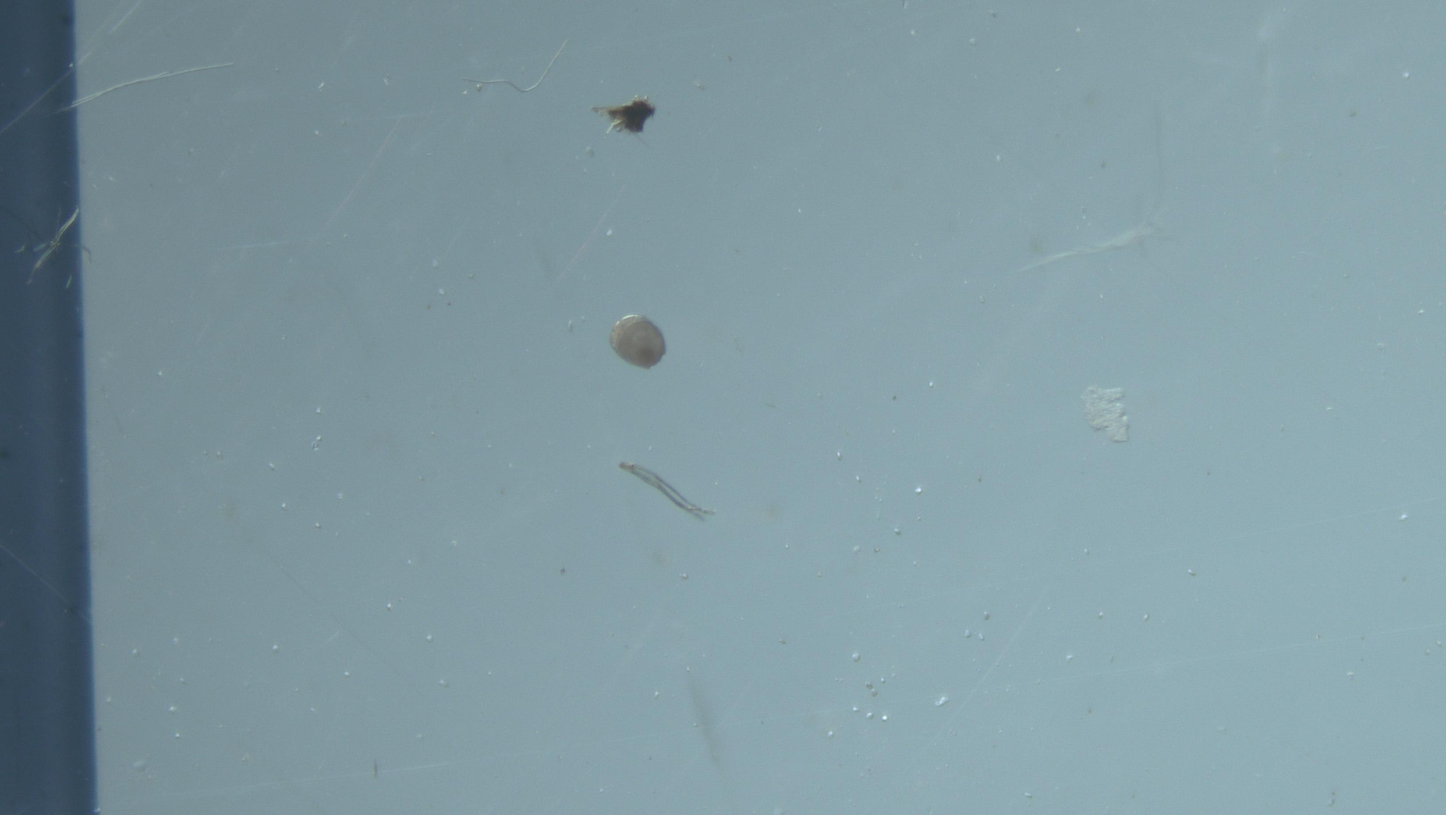live: (609, 315, 665, 369)
